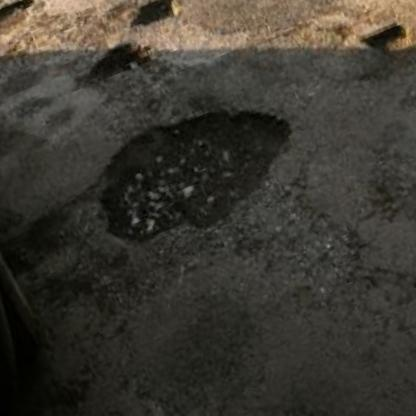pothole: (72, 74, 316, 267), (72, 34, 166, 114), (0, 0, 108, 32), (357, 12, 416, 70), (0, 0, 46, 51), (125, 0, 185, 36), (0, 118, 14, 187)
